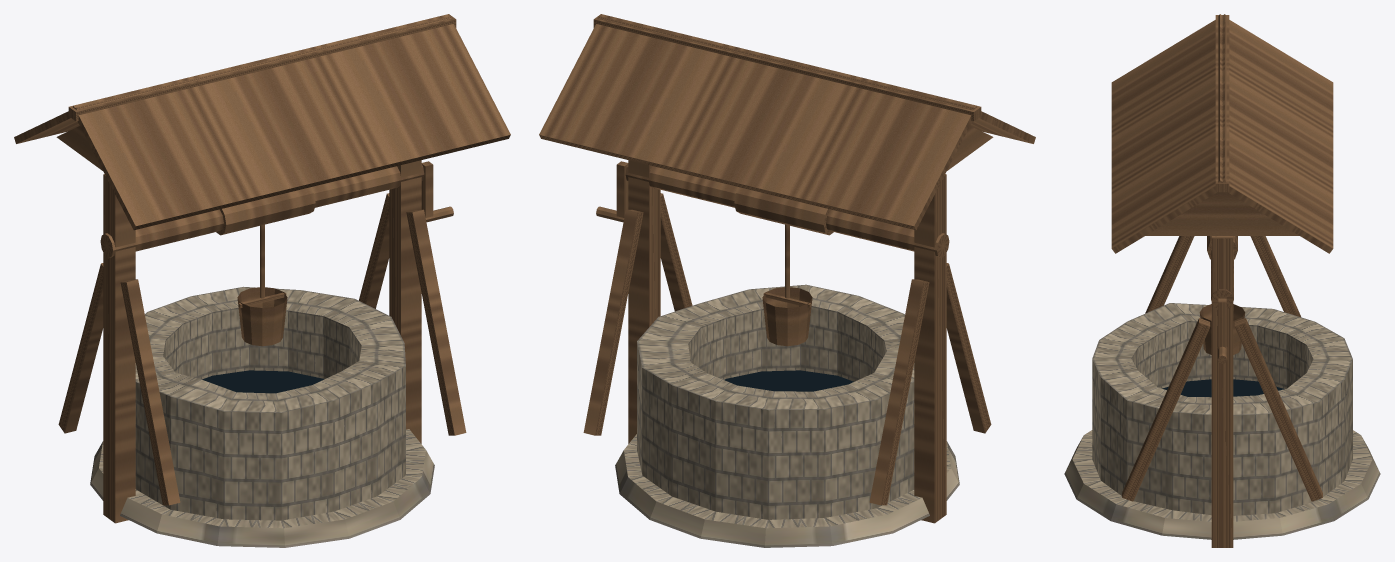
File: well.obj
3 renders of one model, left to right at view 1: azimuth 30°, elevation 25°; view 2: azimuth 150°, elevation 25°; view 3: azimuth 270°, elevation 25°, orthographic. The views are drawn at different scales.
Visible parts, largest first — view 1: well; view 2: well; view 3: well.
Boxes of the visible parts, x1,y1,x2,y2 form: well: (14, 14, 510, 547); well: (539, 14, 1035, 547); well: (1064, 14, 1380, 547).
Bounding box in the file's own units: 2.98 × 3.15 × 2.36.
4 materials, 3 textured.
